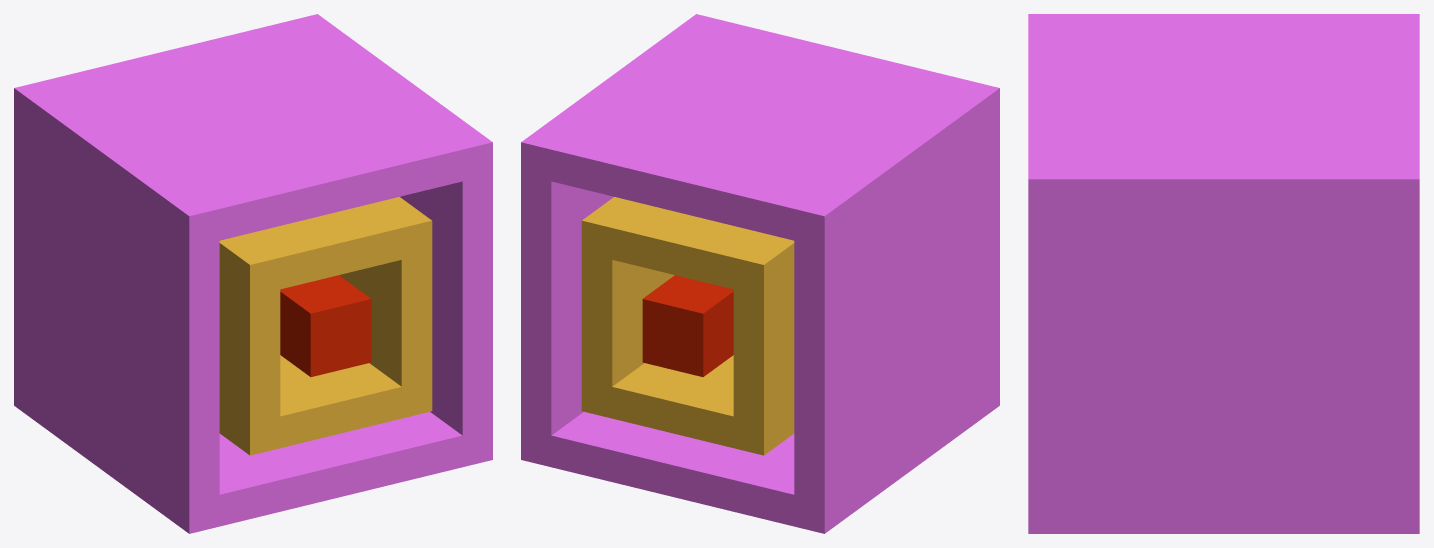
File: Rine.fbx
3 views of the same model, side by side, from view 1: azimuth 30°, elevation 25°; view 2: azimuth 150°, elevation 25°; view 3: azimuth 270°, elevation 25° (orthographic). The views are drawn at different scales.
Visible parts, largest first — view 1: Rine; view 2: Rine; view 3: Rine.
Part boxes in pixels (bbox=[...]): Rine: bbox=[14, 14, 492, 533]; Rine: bbox=[521, 14, 999, 533]; Rine: bbox=[1028, 14, 1419, 533].
Bounding box in the file's own units: 10 × 10 × 10.
1 material, 1 textured.
